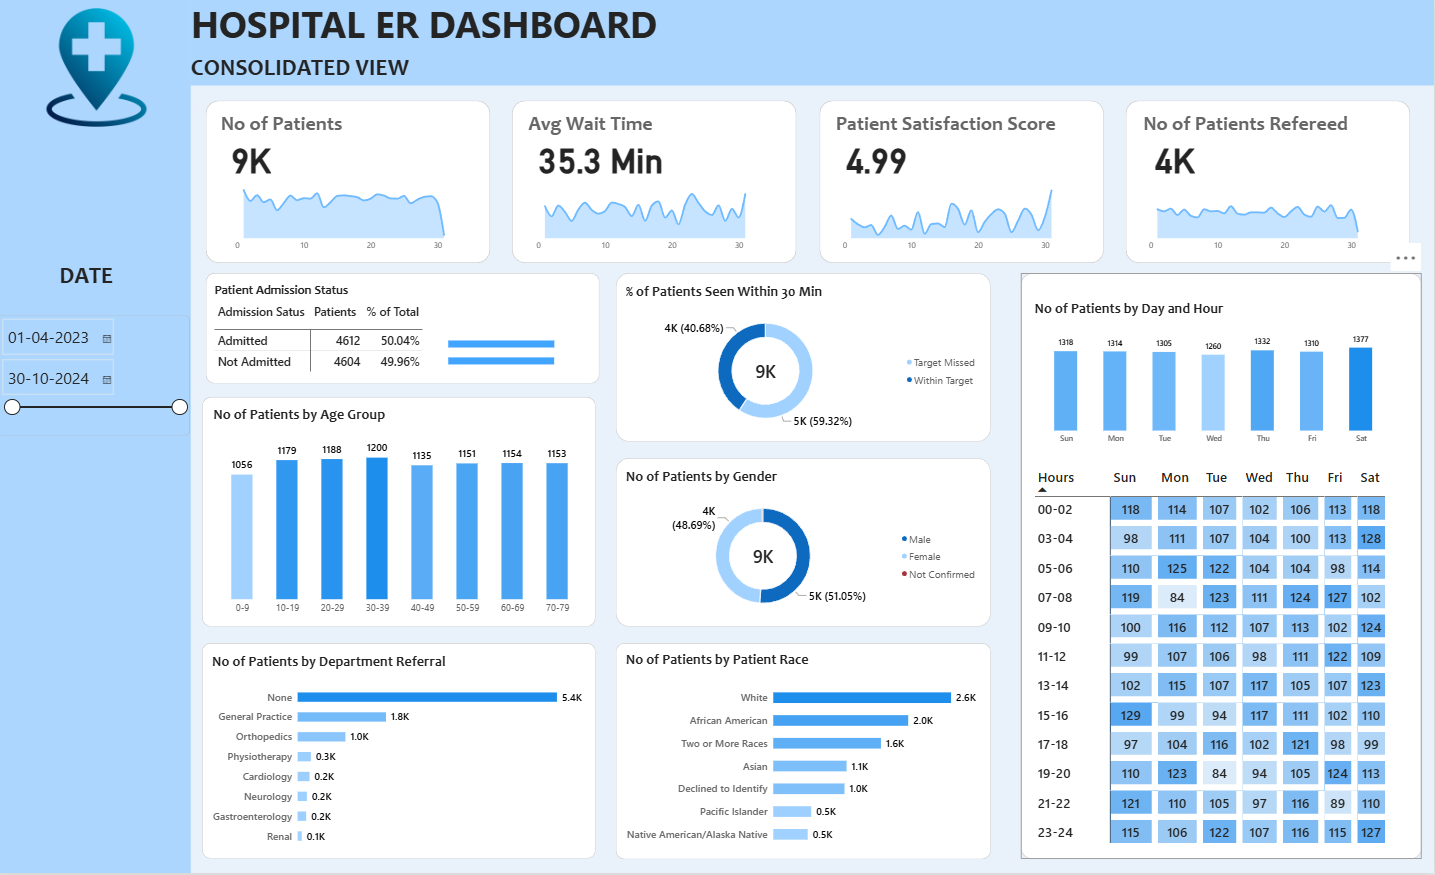

Layout of this report page (visuals, bound fields, positions):
{"tool":"powerbi","page":{"name":"Consolidated View","canvas":[2300,1400],"ordinal":1},"visuals":[{"type":"shape","box":[0,0,310,1400],"z":0},{"type":"shape","box":[310.1,0,1990,140],"z":1000},{"type":"textbox","box":[310.1,0,1952.5,87.5],"z":2000},{"type":"textbox","box":[310,87.5,530,52.5],"z":3000},{"type":"shape","box":[334,164,455,260],"z":4000},{"type":"cardVisual","fields":{"Data":["Dax Measures.No of Patients"]},"box":[358,226,184,70],"z":5000},{"type":"textbox","box":[358,180,218,52],"z":6000},{"type":"areaChart","fields":{"Category":["Date Table.Date.Variation.Date Hierarchy.Day"],"Y":["Dax Measures.No of Patients"]},"box":[358,278,426,146],"z":7000},{"type":"shape","box":[824.7,164,455,260],"z":8000},{"type":"shape","box":[1315.3,164,455,260],"z":9000},{"type":"shape","box":[1806,164,455,260],"z":10000},{"type":"textbox","box":[850,180,218,52],"z":11000},{"type":"textbox","box":[1834,180,342,52],"z":12000},{"type":"textbox","box":[1342,180,360,52],"z":13000},{"type":"cardVisual","fields":{"Data":["Dax Measures.Average Wait time"]},"box":[850,226,248,70],"z":14000},{"type":"areaChart","fields":{"Category":["Date Table.Date.Variation.Date Hierarchy.Day"],"Y":["Avg(Hospital ER_Data.Patient Waittime)"]},"box":[840,278,426,146],"z":15000},{"type":"cardVisual","fields":{"Data":["Dax Measures.Satisfaction Score"]},"box":[1342,226,248,70],"z":16000},{"type":"areaChart","fields":{"Category":["Date Table.Date.Variation.Date Hierarchy.Day"],"Y":["Dax Measures.Satisfaction Score"]},"box":[1330,278,426,146],"z":17000},{"type":"cardVisual","fields":{"Data":["Dax Measures.No of Patients Referred"]},"box":[1836,226,248,70],"z":18000},{"type":"areaChart","fields":{"Category":["Date Table.Date.Variation.Date Hierarchy.Day"],"Y":["Dax Measures.No of Patients Referred"]},"box":[1820,278,426,146],"z":19000},{"type":"shape","box":[333,439.3,630,177],"z":20000},{"type":"pivotTable","title":"Patient Admission Status","fields":{"Rows":["Hospital ER_Data.Admission Satus"],"Values":["Dax Measures.No of Patients1","Divide(Dax Measures.No of Patients, ScopedEval(Dax Measures.No of Patients, []))"]},"box":[332.9,440,375.7,177.1],"z":21000},{"type":"barChart","fields":{"Category":["Hospital ER_Data.Admission Satus"],"Y":["Dax Measures.No of Patients"]},"box":[705.7,511.4,252.9,105.7],"z":22000},{"type":"shape","box":[328.6,637.1,630,368],"z":23000},{"type":"columnChart","fields":{"Category":["Hospital ER_Data.Age Group"],"Y":["Dax Measures.No of Patients"]},"box":[330,638,630,368.6],"z":24000},{"type":"shape","box":[327.5,1032.5,630,345],"z":25000},{"type":"barChart","fields":{"Category":["Hospital ER_Data.Department Referral"],"Y":["Dax Measures.No of Patients"]},"box":[328,1032,630,345.6],"z":26000},{"type":"shape","box":[990,440,600,270],"z":27000},{"type":"donutChart","title":"% of Patients Seen Within 30 Min","fields":{"Category":["Hospital ER_Data.Wait Time"],"Y":["Dax Measures.No of Patients"]},"box":[990,440,600,270],"z":28000},{"type":"shape","box":[990,736,600,270],"z":29000},{"type":"donutChart","title":"No of Patients by Gender","fields":{"Category":["Hospital ER_Data.Patient Gender"],"Y":["Dax Measures.No of Patients"]},"box":[990,736,600,270],"z":30000},{"type":"shape","box":[990,1032,600,346],"z":31000},{"type":"barChart","fields":{"Category":["Hospital ER_Data.Patient Race"],"Y":["Dax Measures.No of Patients"]},"box":[990,1030,600,348],"z":32000},{"type":"shape","box":[1638.9,440.5,642,938],"z":33000},{"type":"columnChart","title":"No of Patients by Day and Hour","fields":{"Category":["Date Table.Day Name"],"Y":["Dax Measures.No of Patients"]},"box":[1644,468,606.2,264.7],"z":35000},{"type":"image","box":[57.5,15,202.5,190],"z":36000},{"type":"slicer","fields":{"Values":["Date Table.Date"]},"box":[0,507.2,309.2,192],"z":37000},{"type":"textbox","box":[99.1,419.9,120.6,51.7],"z":38000},{"type":"pivotTable","fields":{"Columns":["Date Table.Day Name"],"Rows":["Hospital ER_Data.Hour group"],"Values":["Dax Measures.No of Patients"]},"box":[1644,732,642,668],"z":38001}]}

Visuals, with their boxes in screenshot pixels (x1, y1, x2, y2), scaled from the page's 2300x1400 canvas onto the 1435x875 screenshot:
shape: (0, 0, 193, 874)
shape: (193, 0, 1434, 88)
textbox: (193, 0, 1412, 55)
textbox: (193, 55, 524, 88)
shape: (208, 102, 492, 265)
cardVisual - Dax Measures.No of Patients: (223, 141, 338, 185)
textbox: (223, 112, 359, 145)
areaChart - Date Table.Date.Variation.Date Hierarchy.Day x Dax Measures.No of Patients: (223, 174, 489, 265)
shape: (515, 102, 798, 265)
shape: (821, 102, 1105, 265)
shape: (1127, 102, 1411, 265)
textbox: (530, 112, 666, 145)
textbox: (1144, 112, 1358, 145)
textbox: (837, 112, 1062, 145)
cardVisual - Dax Measures.Average Wait time: (530, 141, 685, 185)
areaChart - Date Table.Date.Variation.Date Hierarchy.Day x Avg(Hospital ER_Data.Patient Waittime): (524, 174, 790, 265)
cardVisual - Dax Measures.Satisfaction Score: (837, 141, 992, 185)
areaChart - Date Table.Date.Variation.Date Hierarchy.Day x Dax Measures.Satisfaction Score: (830, 174, 1096, 265)
cardVisual - Dax Measures.No of Patients Referred: (1146, 141, 1300, 185)
areaChart - Date Table.Date.Variation.Date Hierarchy.Day x Dax Measures.No of Patients Referred: (1136, 174, 1401, 265)
shape: (208, 275, 601, 385)
"Patient Admission Status" pivotTable: (208, 275, 442, 386)
barChart - Hospital ER_Data.Admission Satus x Dax Measures.No of Patients: (440, 320, 598, 386)
shape: (205, 398, 598, 628)
columnChart - Hospital ER_Data.Age Group x Dax Measures.No of Patients: (206, 399, 599, 629)
shape: (204, 645, 597, 861)
barChart - Hospital ER_Data.Department Referral x Dax Measures.No of Patients: (205, 645, 598, 861)
shape: (618, 275, 992, 444)
"% of Patients Seen Within 30 Min" donutChart: (618, 275, 992, 444)
shape: (618, 460, 992, 629)
"No of Patients by Gender" donutChart: (618, 460, 992, 629)
shape: (618, 645, 992, 861)
barChart - Hospital ER_Data.Patient Race x Dax Measures.No of Patients: (618, 644, 992, 861)
shape: (1023, 275, 1423, 862)
"No of Patients by Day and Hour" columnChart: (1026, 292, 1404, 458)
image: (36, 9, 162, 128)
slicer - Date Table.Date: (0, 317, 193, 437)
textbox: (62, 262, 137, 295)
pivotTable - Date Table.Day Name x Hospital ER_Data.Hour group: (1026, 458, 1426, 874)
